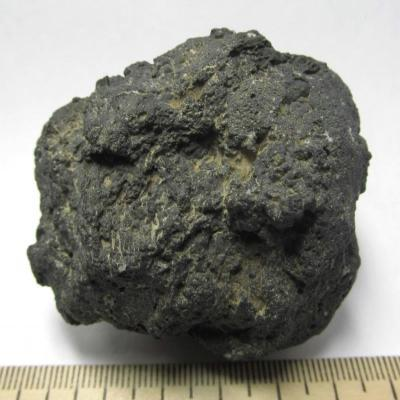natural_science_collection: (26, 28, 372, 363)
